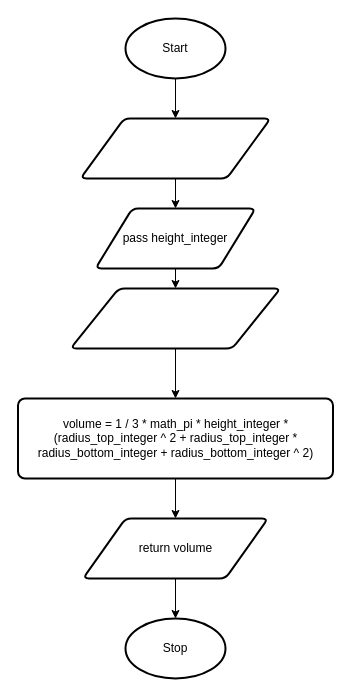
This 351x696 diagram has some shape labels left out. Here are the shapes that lost their labels. From the top down, the centre of each, then its label:
At point (175, 148): "pass radius_top_integer".
At point (175, 318): "pass radius_bottom_integer".
